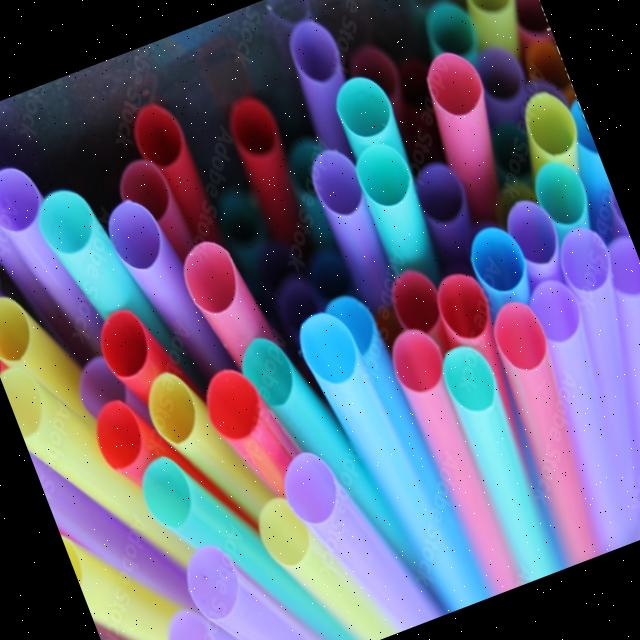plastic: (417, 306, 572, 588)
